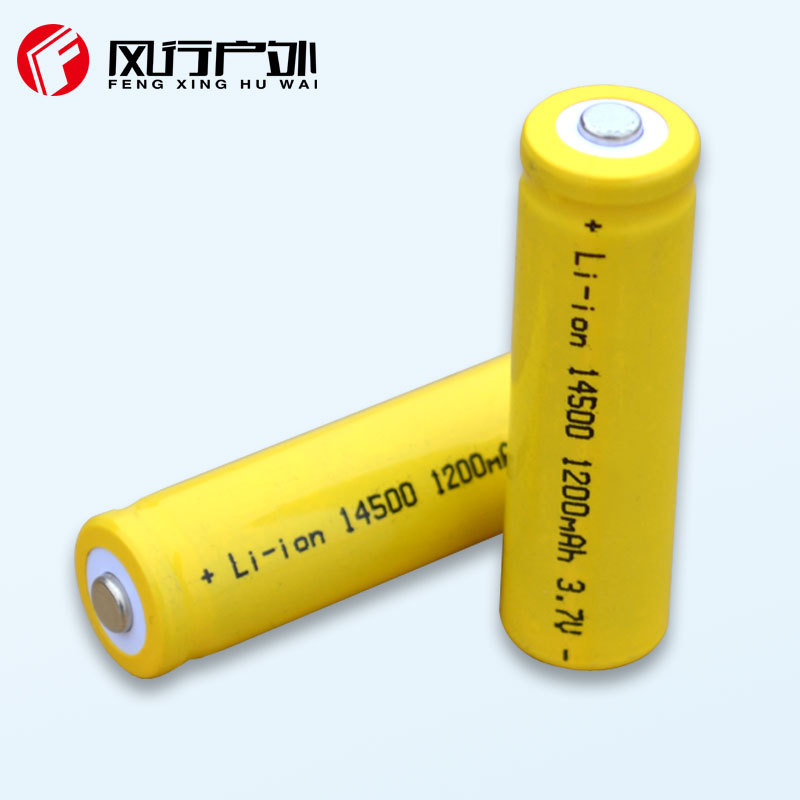Battery: (61, 339, 519, 690), (491, 73, 712, 682)
